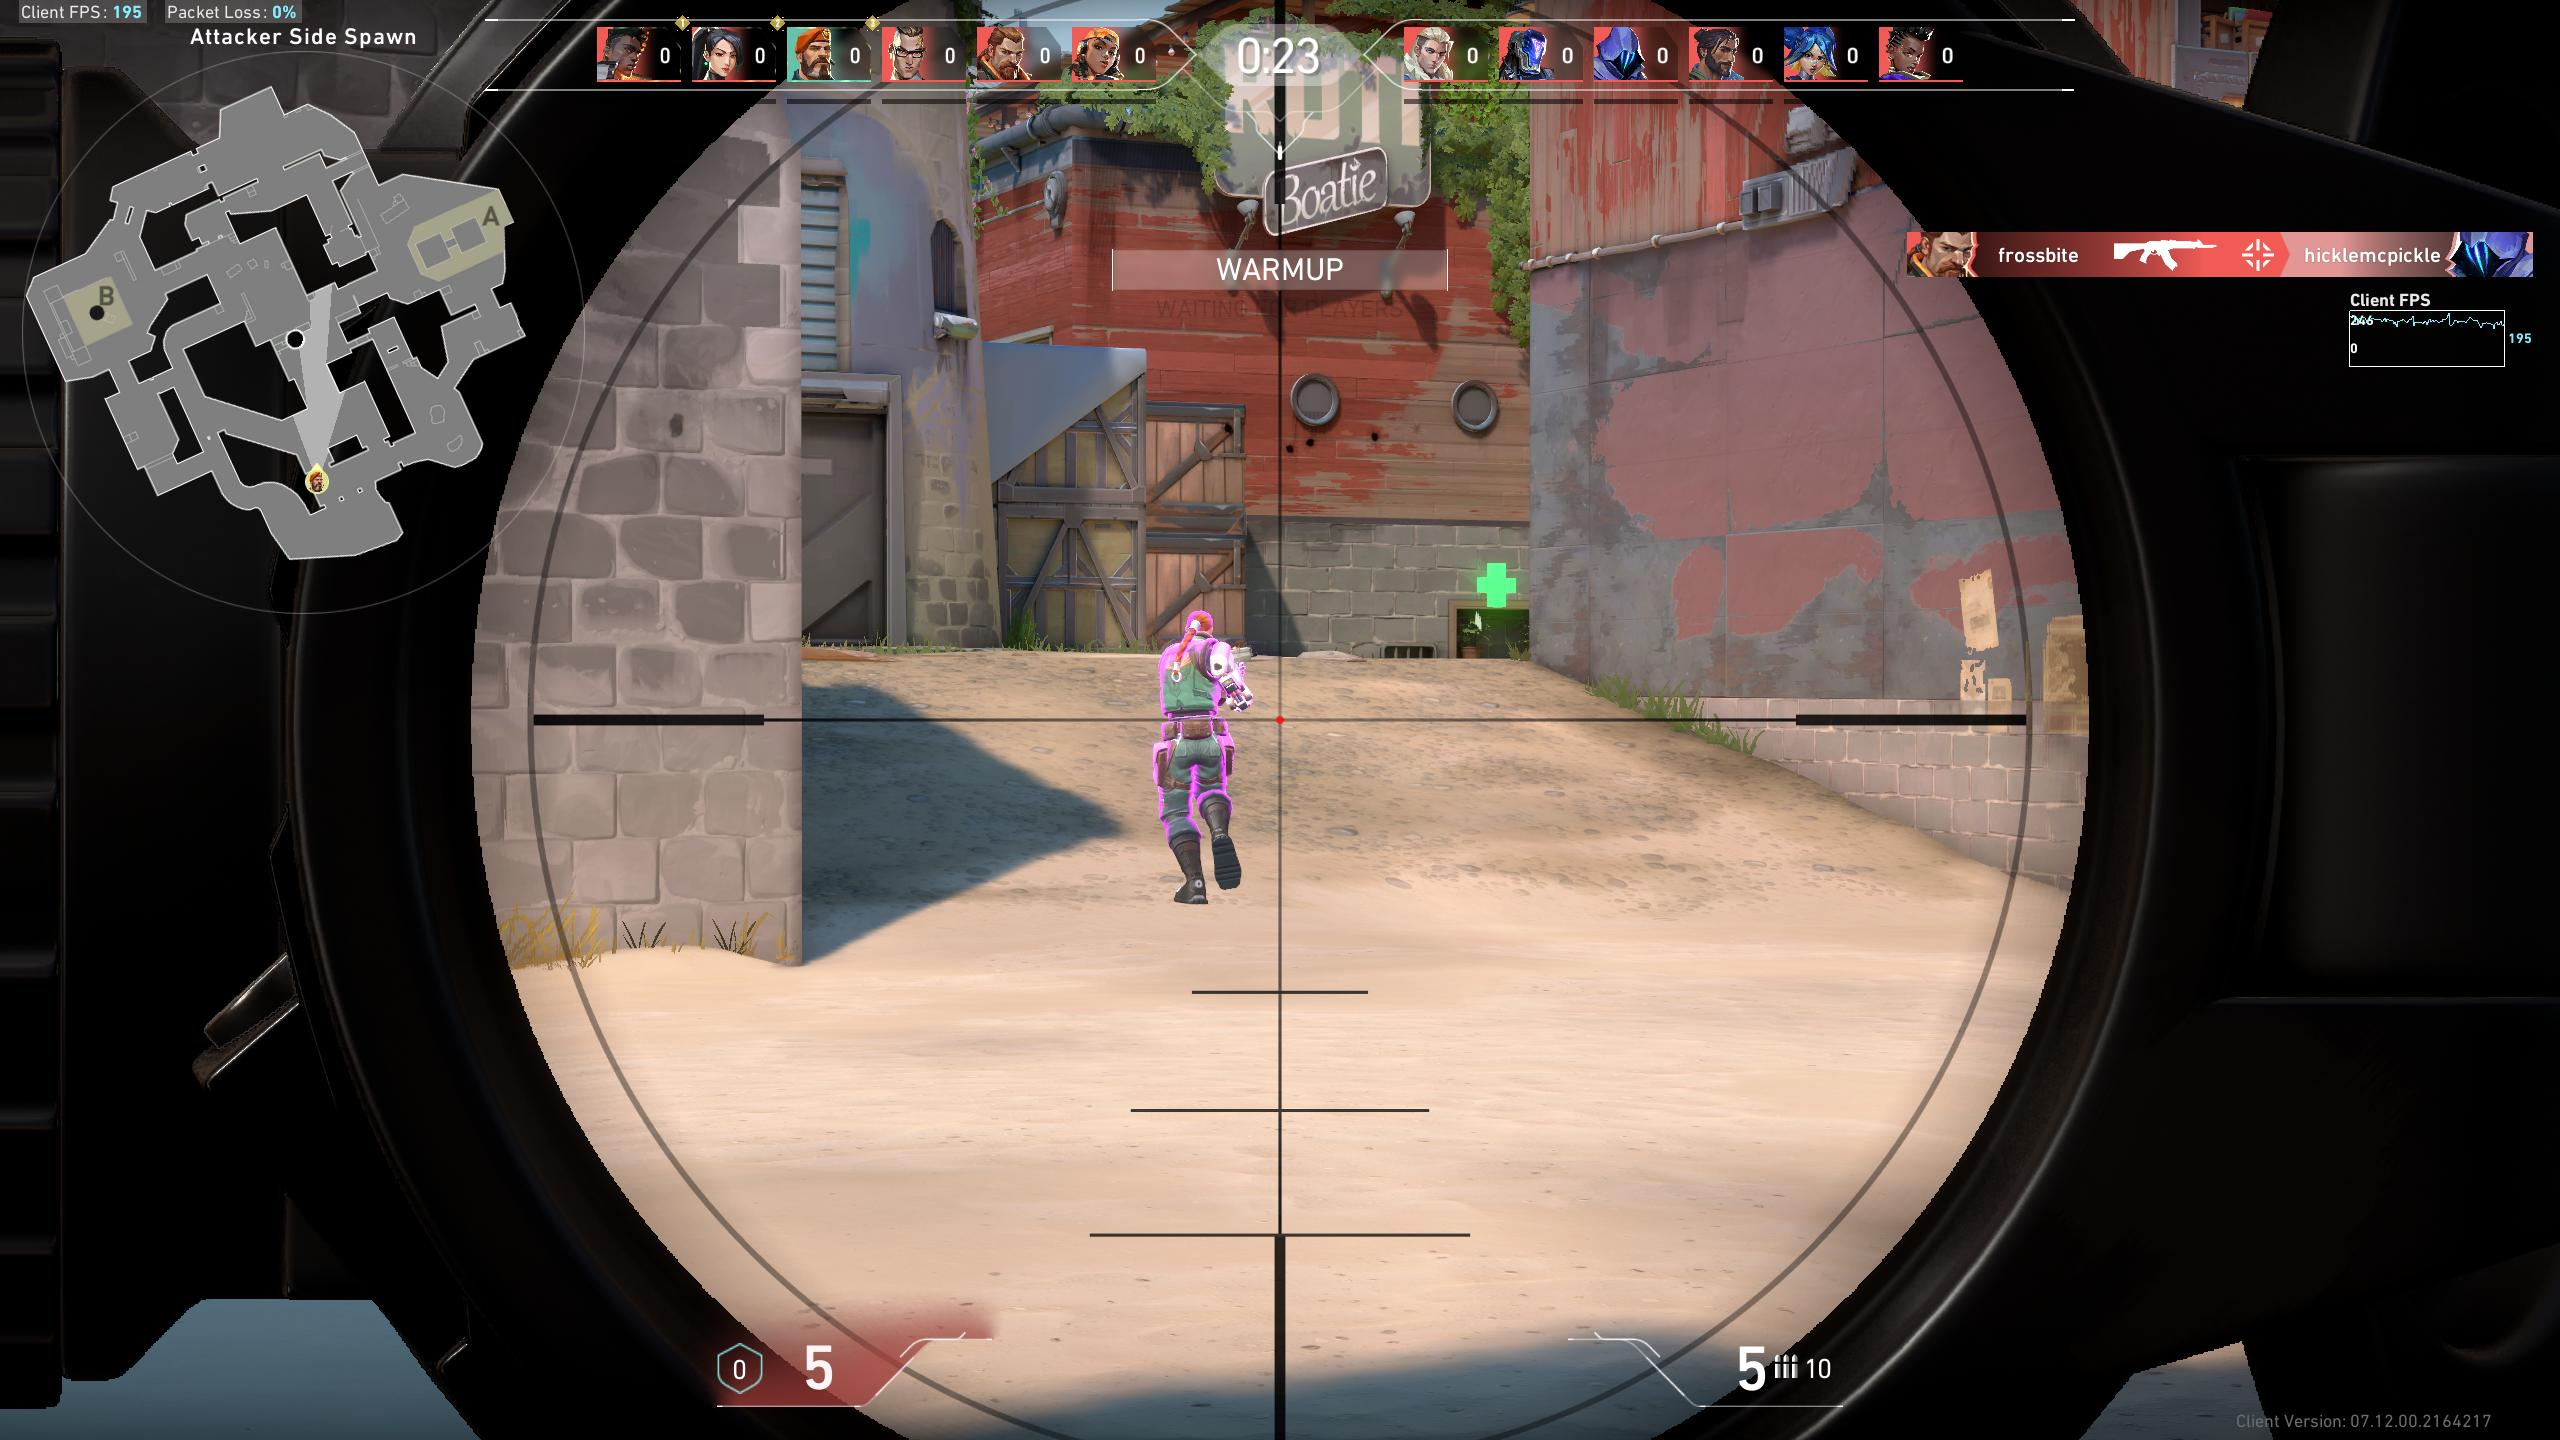enemyBody: (1162, 636, 1234, 753)
enemyHead: (1185, 610, 1217, 640)
